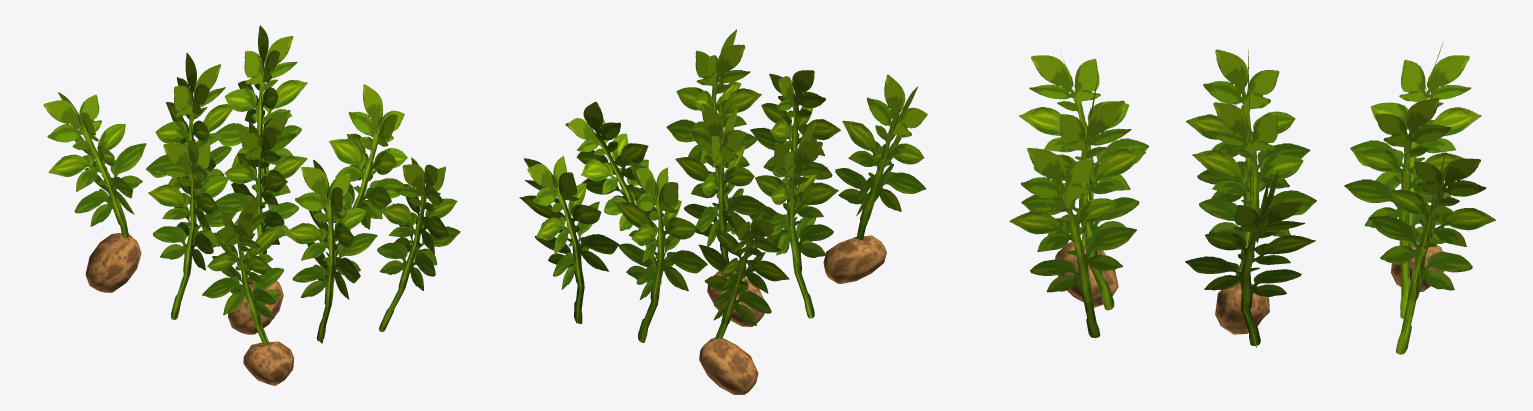
Rendered from Potato_Step02.fbx.
3 renders of one model, left to right at view 1: azimuth 30°, elevation 25°; view 2: azimuth 150°, elevation 25°; view 3: azimuth 270°, elevation 25°, orthographic. The views are drawn at different scales.
Parts seen in each view (by area): view 1: Potato_Step02; view 2: Potato_Step02; view 3: Potato_Step02.
Part boxes in pixels (x1=…): Potato_Step02: x1=43, y1=25, x2=460, y2=385; Potato_Step02: x1=519, y1=29, x2=927, y2=394; Potato_Step02: x1=1009, y1=42, x2=1495, y2=354.
Size of the model in its own units: 204 by 131 by 233.
